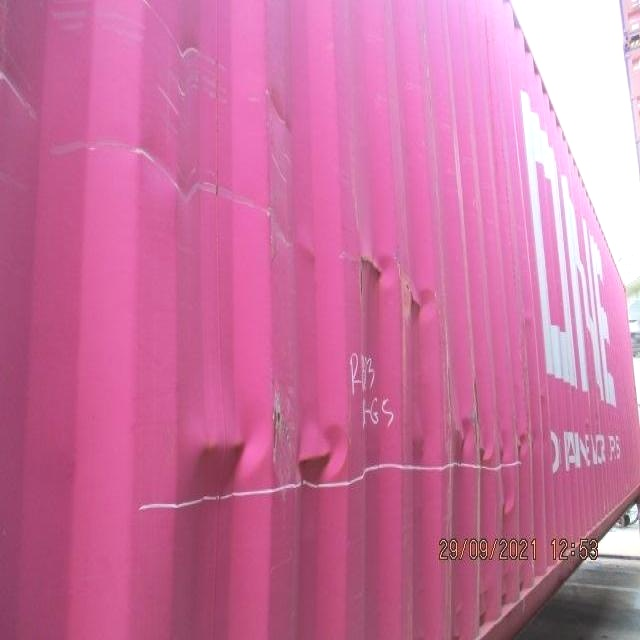Dent: (173, 358, 354, 521), (339, 228, 450, 340), (446, 412, 537, 473), (496, 494, 520, 521)
